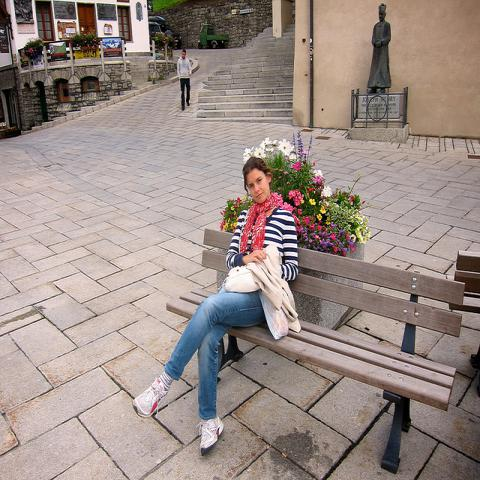car: (149, 21, 182, 50)
